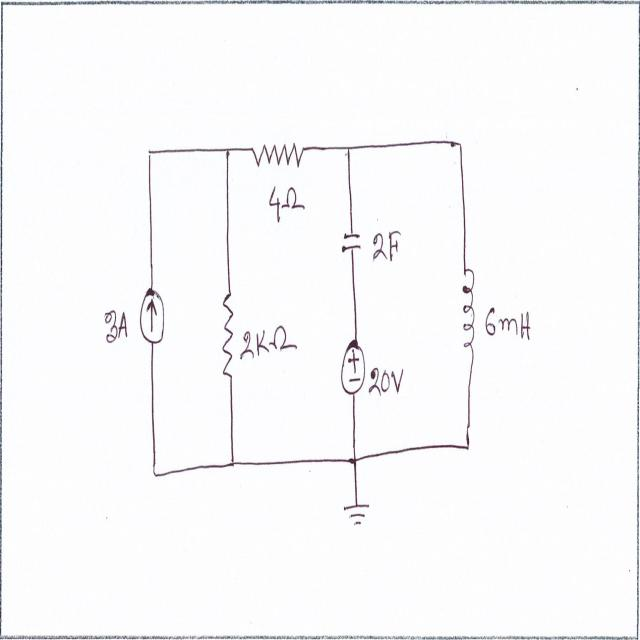capacitor: (340, 223, 363, 261)
current_source: (138, 287, 168, 352)
ground: (341, 496, 376, 532)
inductor: (460, 266, 479, 365)
resistor: (250, 130, 304, 178), (221, 288, 236, 388)
voltage_source: (339, 334, 368, 401)
